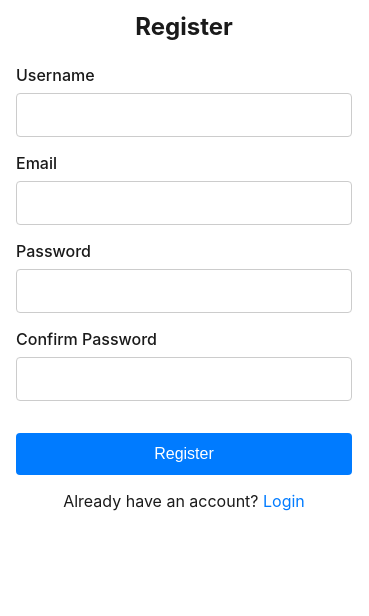
Test: RegisterForm Component › should display validation error for password without letter
Type "12345678" into the password field labelled "Password" at (184, 291), box x1=16 y1=269 x2=352 y2=313
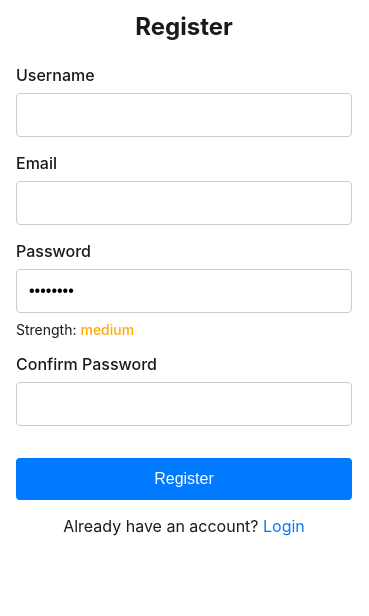
Type "12345678" into the password field labelled "Confirm Password" at (184, 404), box x1=16 y1=382 x2=352 y2=426
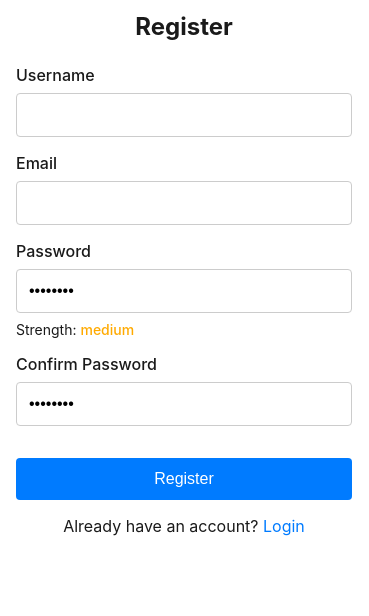
Click the button "Register" at (184, 479), box x1=16 y1=458 x2=352 y2=500
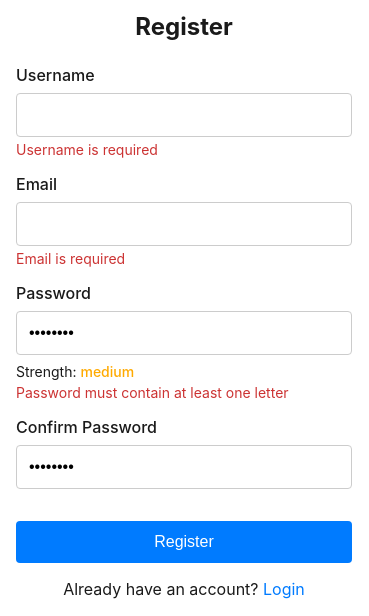
Result: the text "Password must contain at least one letter" is shown at x1=16 y1=384 x2=289 y2=401
